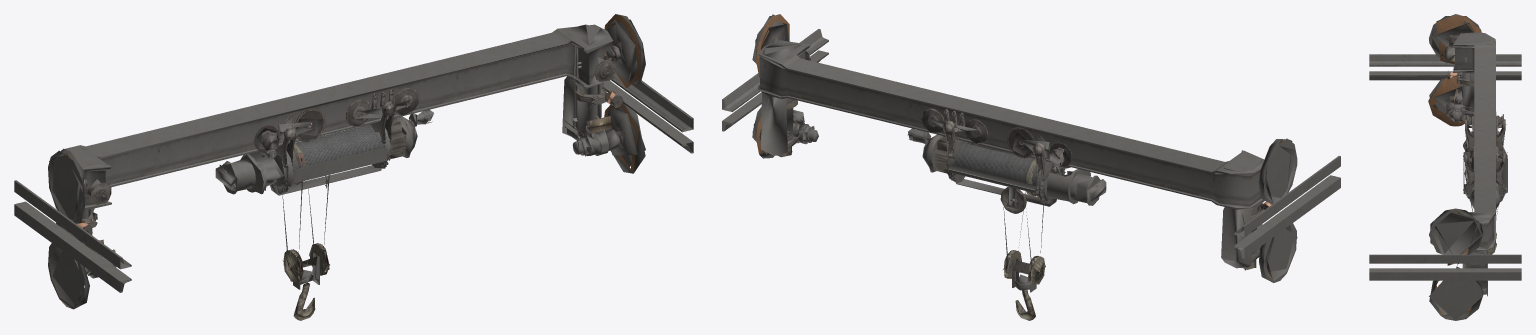
The model's file is crane.glb.
3 renders of one model, left to right at view 1: azimuth 30°, elevation 25°; view 2: azimuth 150°, elevation 25°; view 3: azimuth 270°, elevation 25°, orthographic. The views are drawn at different scales.
Parts seen in each view (by area): view 1: overhead_crane, overhead_crane_winch, overhead_crane_rails; view 2: overhead_crane, overhead_crane_winch, overhead_crane_rails; view 3: overhead_crane, overhead_crane_rails, overhead_crane_winch.
Part boxes in pixels (<box>): overhead_crane: <box>48,14,645,309</box>; overhead_crane_winch: <box>215,87,433,320</box>; overhead_crane_rails: <box>14,54,693,292</box>; overhead_crane: <box>752,14,1297,282</box>; overhead_crane_winch: <box>907,108,1106,320</box>; overhead_crane_rails: <box>722,29,1340,258</box>; overhead_crane: <box>1428,14,1495,320</box>; overhead_crane_rails: <box>1369,54,1521,280</box>; overhead_crane_winch: <box>1463,112,1507,254</box>.
Bounding box in the file's own units: 12.49 × 5.12 × 4.
2 materials, 2 textured.
